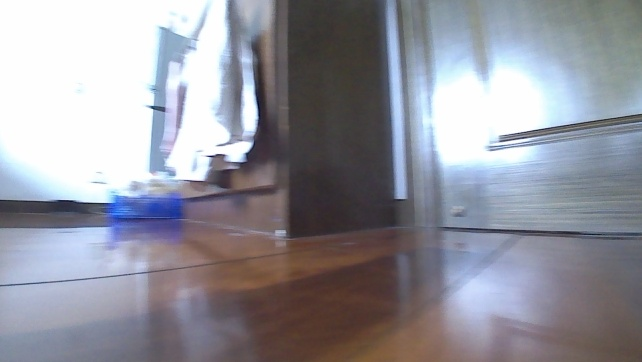door_anno: (391, 0, 641, 237)
